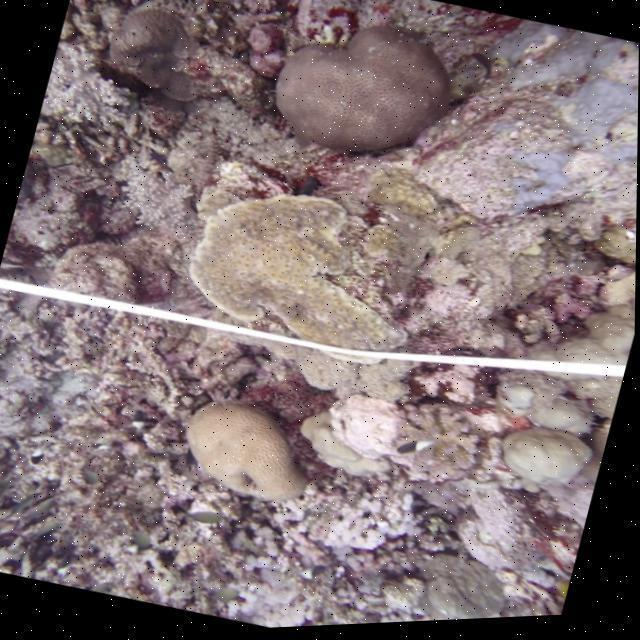Bleached Coral: (215, 452, 452, 632), (107, 118, 218, 252), (35, 46, 154, 155), (333, 378, 435, 480)
